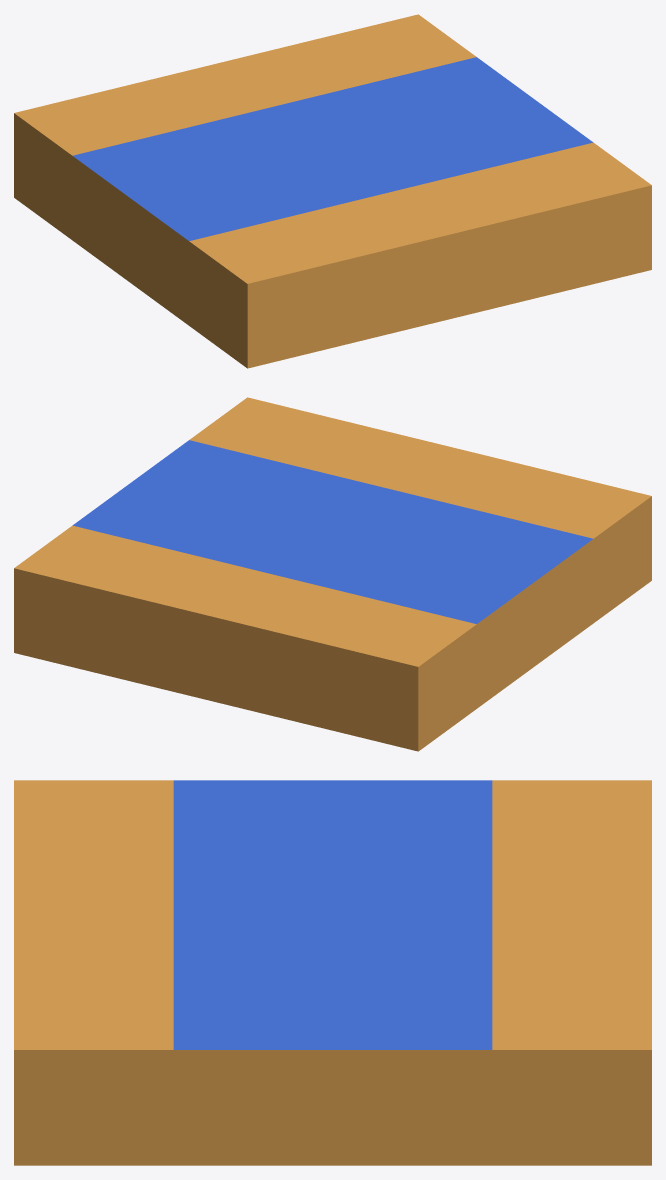
The model's file is RiverStraight.fbx.
The picture shows the model from 3 angles, top to bottom: view 1: azimuth 30°, elevation 25°; view 2: azimuth 150°, elevation 25°; view 3: azimuth 270°, elevation 25°; orthographic projection. The views are drawn at different scales.
Visible parts, largest first — view 1: Cube; view 2: Cube; view 3: Cube.
Part boxes in pixels (x1,y1,x2,y2): Cube: [14, 14, 651, 368]; Cube: [14, 397, 651, 751]; Cube: [14, 780, 651, 1165].
Size of the model in its own units: 500 by 100 by 500.
